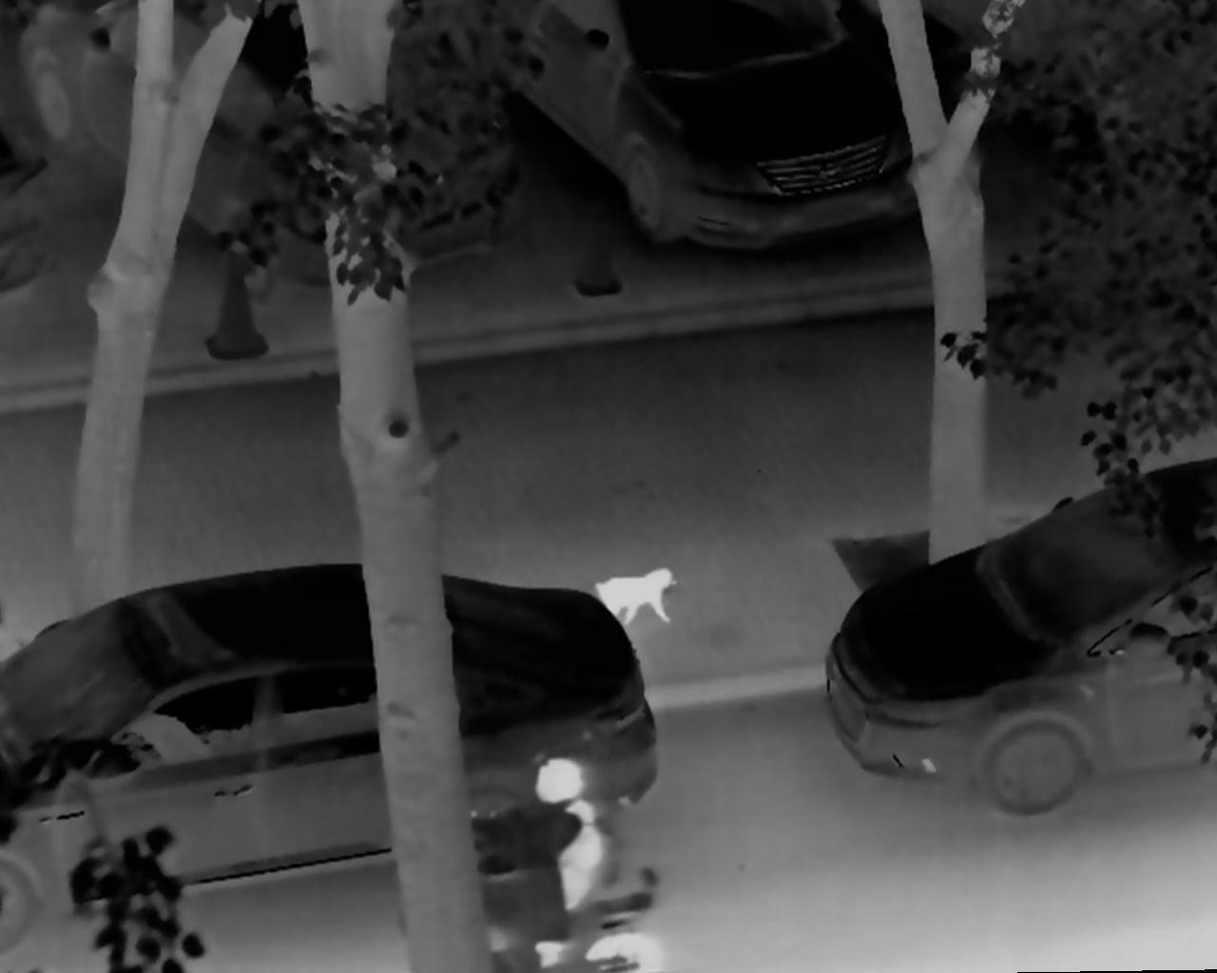person: (479, 745, 622, 972)
